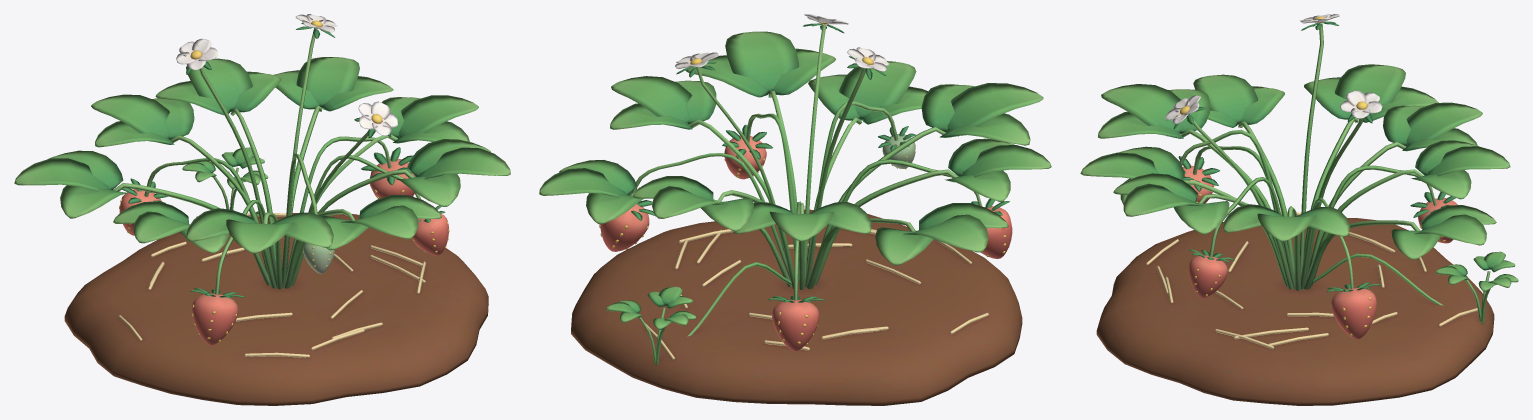
File: strawberry-plant.glb
3 views of the same model, side by side, from view 1: azimuth 30°, elevation 25°; view 2: azimuth 150°, elevation 25°; view 3: azimuth 270°, elevation 25° (orthographic). The views are drawn at different scales.
Parts seen in each view (by area): view 1: strawberry-plant.001; view 2: strawberry-plant.001; view 3: strawberry-plant.001.
Boxes of the visible parts, <box> form: strawberry-plant.001: <box>14,14,510,405</box>; strawberry-plant.001: <box>539,14,1051,405</box>; strawberry-plant.001: <box>1080,14,1518,405</box>.
Size of the model in its own units: 1.52 by 1 by 1.46.
1 material, 1 textured.
